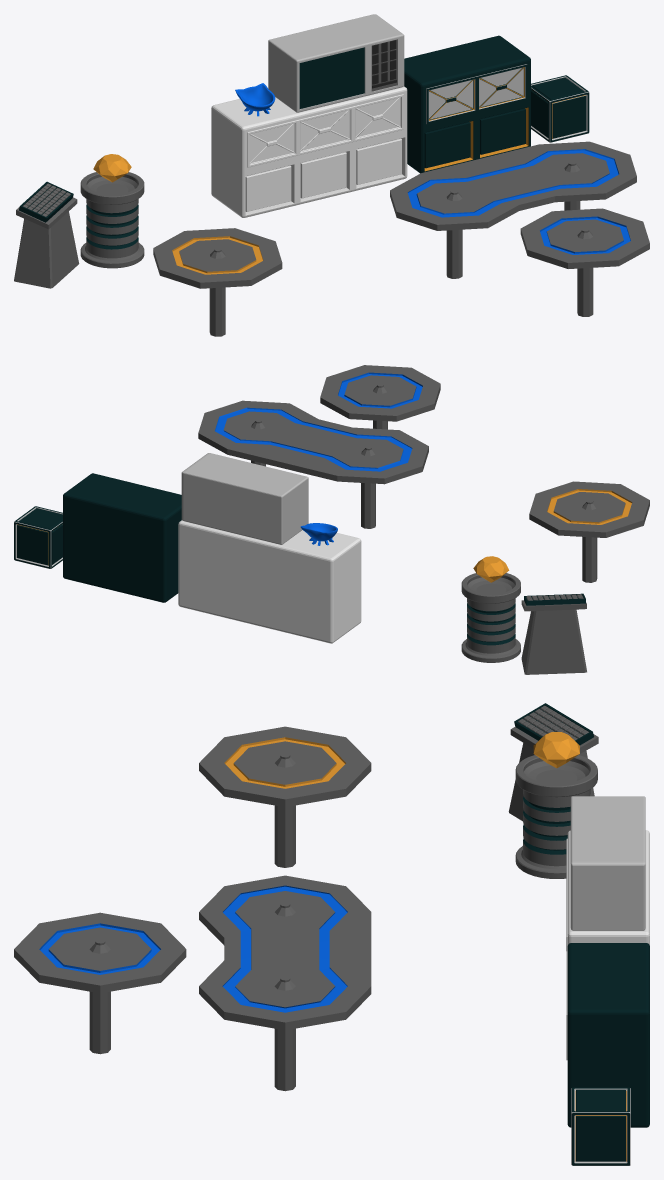
Rendered from PropsSecond2.fbx.
3 renders of one model, top to bottom at view 1: azimuth 30°, elevation 25°; view 2: azimuth 150°, elevation 25°; view 3: azimuth 270°, elevation 25°, orthographic. The views are drawn at different scales.
Visible parts, largest first — view 1: CajaM, Plane.001, CajaMB, Microondas, Plane, Plane.002, Cylinder, Pedestal, CajaMC, Keyboard, Bowl, Gem; view 2: CajaM, Plane.001, CajaMB, Microondas, Plane, Plane.002, Cylinder, Pedestal, CajaMC, Keyboard, Gem, Bowl; view 3: Plane.001, CajaMB, Plane, Plane.002, Microondas, Cylinder, CajaMC, CajaM, Keyboard, Gem, Pedestal.
Part boxes in pixels (x1,y1,x2,y2): CajaM: (211, 86, 407, 217); Plane.001: (390, 141, 636, 278); CajaMB: (404, 35, 530, 173); Microondas: (268, 14, 404, 112); Plane: (153, 228, 282, 336); Plane.002: (520, 208, 649, 316); Cylinder: (80, 172, 144, 268); Pedestal: (14, 197, 79, 288); CajaMC: (531, 75, 589, 142); Keyboard: (19, 181, 73, 222); Bowl: (235, 83, 275, 116); Gem: (93, 154, 131, 182); CajaM: (178, 520, 361, 643); Plane.001: (198, 400, 428, 528); CajaMB: (63, 473, 181, 602); Microondas: (181, 453, 308, 544); Plane: (529, 481, 649, 582); Plane.002: (320, 365, 440, 429); Cylinder: (461, 573, 520, 662); Pedestal: (521, 600, 586, 674); CajaMC: (14, 506, 62, 568); Keyboard: (524, 593, 585, 605); Gem: (473, 556, 509, 582); Bowl: (300, 523, 337, 545); Plane.001: (199, 875, 371, 1091); CajaMB: (566, 943, 649, 1127); Plane: (199, 726, 371, 867); Plane.002: (14, 912, 186, 1054); Microondas: (570, 796, 645, 930); Cylinder: (515, 755, 597, 878); CajaMC: (571, 1087, 630, 1165); CajaM: (566, 830, 649, 951); Keyboard: (514, 703, 593, 745); Gem: (533, 732, 579, 768); Pedestal: (508, 727, 598, 821).
Size of the model in its own units: 2107 by 502 by 1543.
